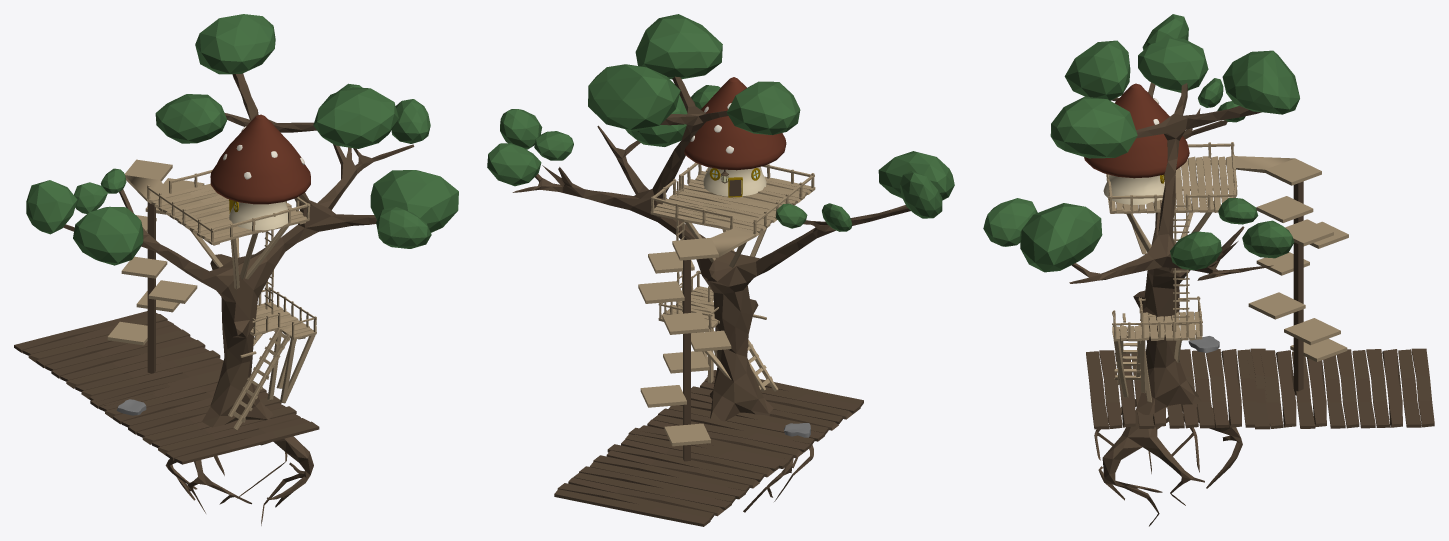
Rendered from Kevin_House.fbx.
3 views of the same model, side by side, from view 1: azimuth 30°, elevation 25°; view 2: azimuth 150°, elevation 25°; view 3: azimuth 270°, elevation 25° (orthographic). The views are drawn at different scales.
Visible parts, largest first — view 1: polySurface390, kevin_house_ground, kevin_house_ground1, polySurface297, polySurface403, polySurface261, polySurface256, polySurface269, polySurface387, polySurface341, polySurface249, polySurface414 (+8 smaller); view 2: polySurface390, kevin_house_ground, kevin_house_ground1, polySurface261, polySurface297, polySurface403, polySurface387, polySurface269, polySurface414, polySurface280, polySurface341, polySurface382 (+13 smaller); view 3: polySurface390, kevin_house_ground, kevin_house_ground1, polySurface256, polySurface403, polySurface297, polySurface261, polySurface269, polySurface387, polySurface414, polySurface249, polySurface314 (+12 smaller).
Part boxes in pixels (x1,y1,x2,y2): polySurface390: (63, 73, 414, 525); kevin_house_ground: (14, 311, 223, 405); kevin_house_ground1: (90, 367, 319, 464); polySurface297: (210, 114, 310, 204); polySurface403: (313, 87, 398, 148); polySurface261: (195, 14, 275, 74); polySurface256: (370, 170, 458, 232); polySurface269: (73, 206, 143, 265); polySurface387: (155, 94, 227, 143); polySurface341: (26, 180, 77, 234); polySurface249: (376, 207, 431, 248); polySurface414: (125, 159, 211, 203); polySurface390: (512, 76, 910, 512); kevin_house_ground: (554, 427, 784, 526); kevin_house_ground1: (633, 370, 863, 468); polySurface261: (588, 64, 680, 131); polySurface297: (684, 77, 786, 170); polySurface403: (635, 14, 722, 79); polySurface387: (726, 81, 800, 135); polySurface269: (878, 151, 954, 200); polySurface414: (650, 210, 759, 260); polySurface280: (487, 143, 541, 186); polySurface341: (900, 171, 942, 218); polySurface382: (500, 109, 542, 149); polySurface390: (1069, 82, 1273, 526); kevin_house_ground: (1247, 348, 1434, 429); kevin_house_ground1: (1086, 348, 1273, 429); polySurface256: (1020, 203, 1102, 272); polySurface403: (1050, 96, 1137, 158); polySurface297: (1084, 83, 1189, 178); polySurface261: (1222, 50, 1299, 114); polySurface269: (1064, 40, 1130, 100); polySurface387: (1138, 38, 1208, 92); polySurface414: (1225, 156, 1321, 197); polySurface249: (983, 198, 1037, 246); polySurface314: (1293, 181, 1303, 395).
Size of the model in its own units: 18.59 by 20.09 by 16.84.
